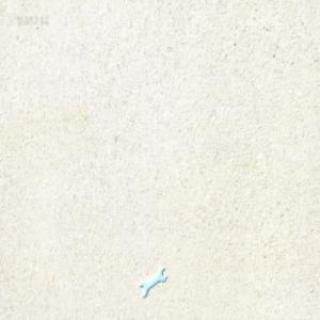Wrenchtrack_idkeyframe: (138, 265, 164, 295)
